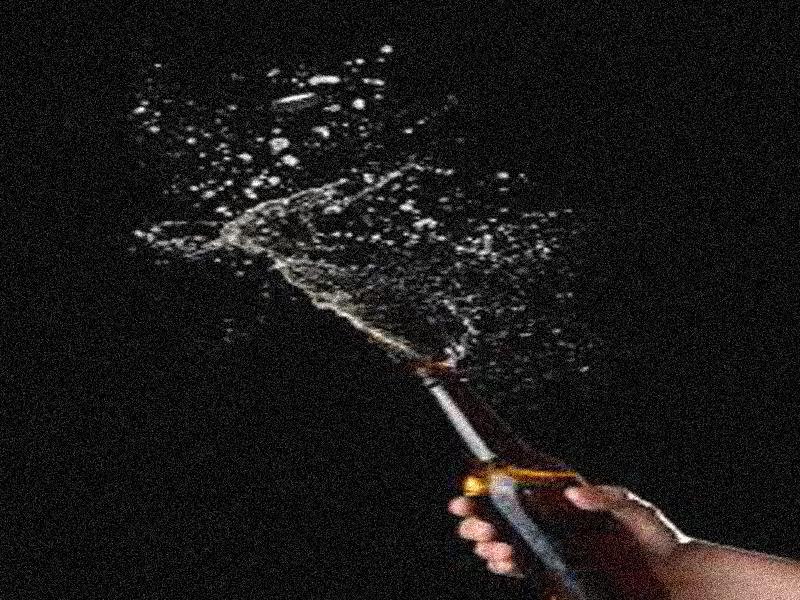Beer: (408, 364, 676, 598)
